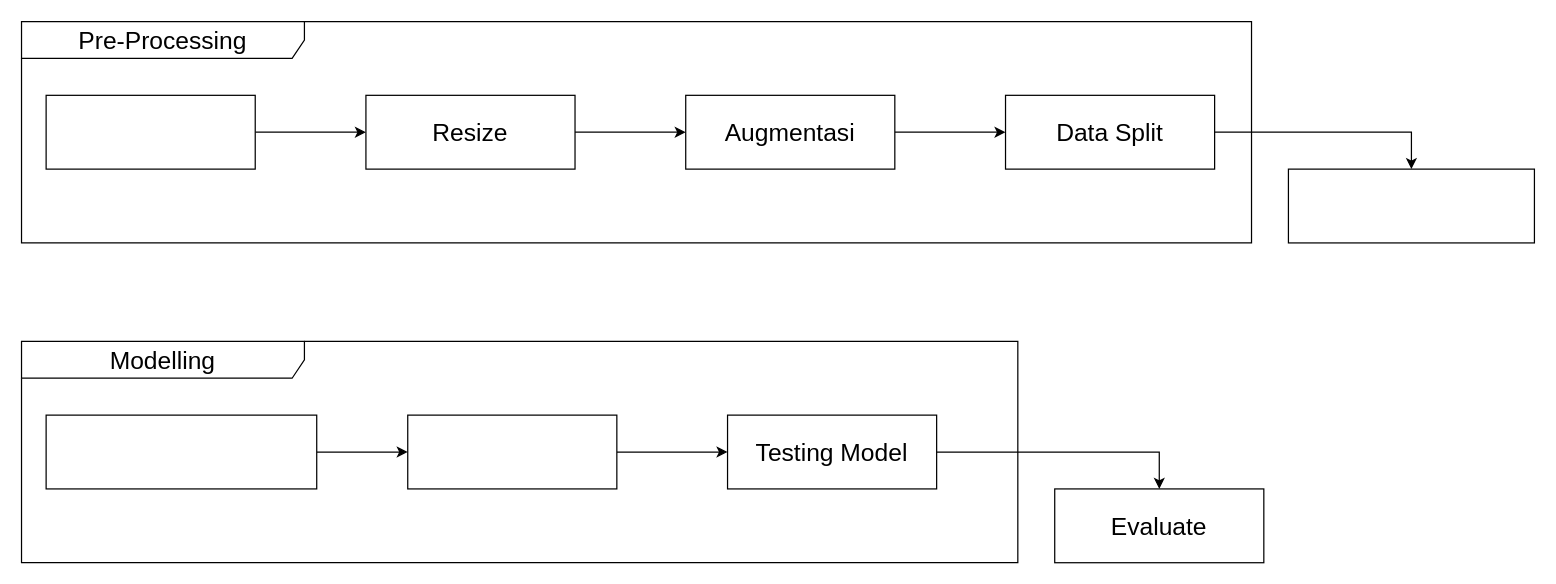
Some shapes in this 1556 by 584 pixel diagram are drawn without their labels. The shapes that lost their labels are listed below. From the top down, each one's centre as x and y in pixels, then its label:
At (150,131): "Labeling".
At (1410,205): "Mengimport dataset ke Projek".
At (181,451): "Mendapatkan Depedency Yolov8".
At (512,451): "Pelatihan Model".
